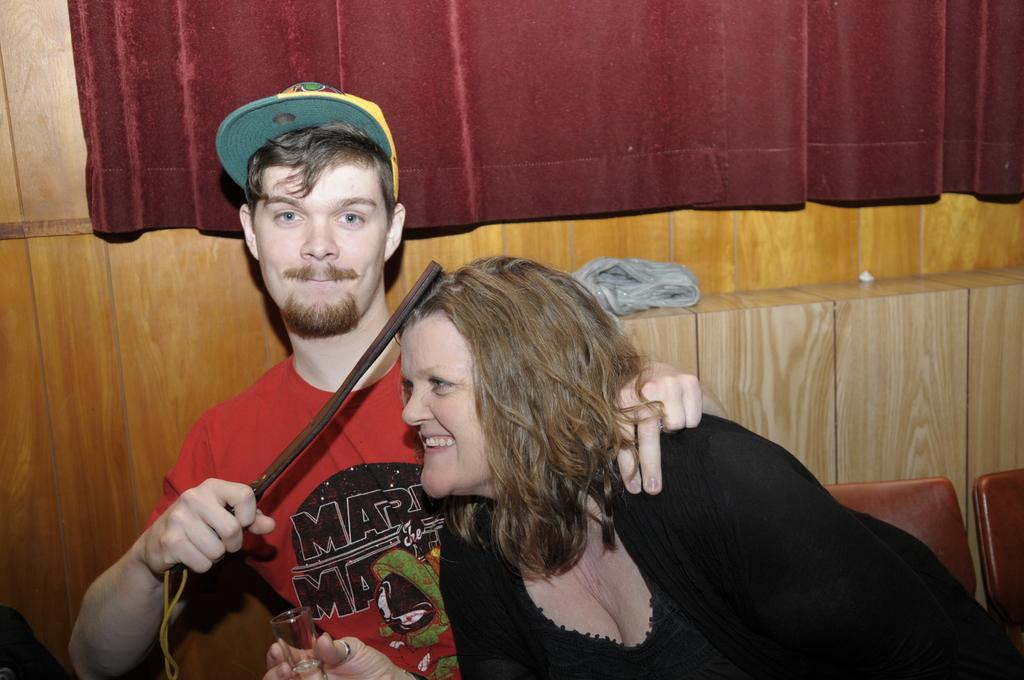Hat: (218, 78, 402, 202)
